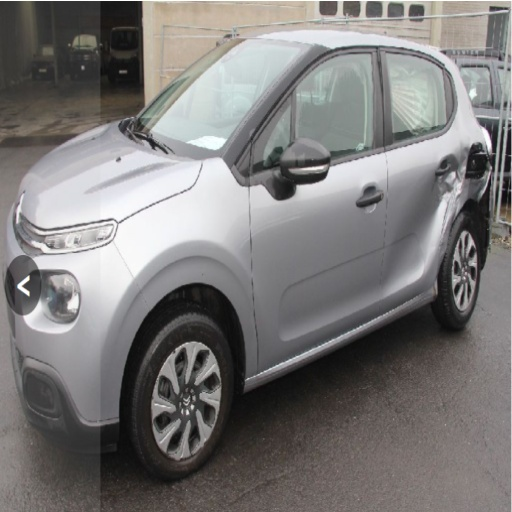dent: (426, 151, 461, 267), (460, 137, 490, 198)
rust: (430, 283, 437, 299)
